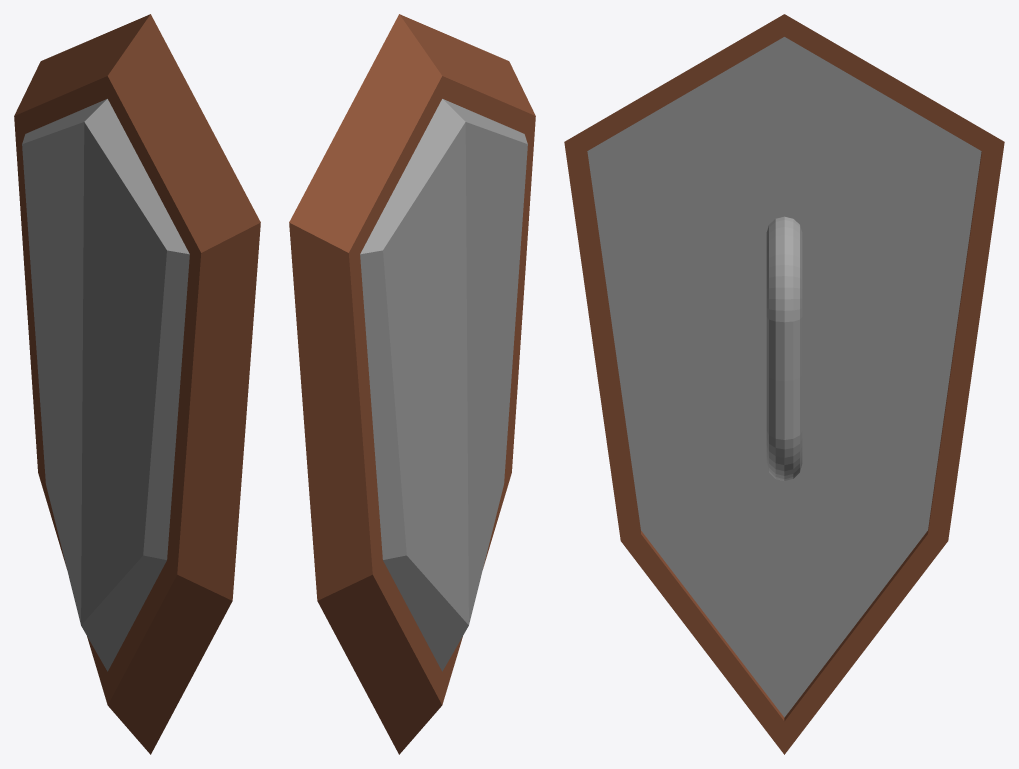
Rendered from shield.fbx.
The picture shows the model from 3 angles, left to right: view 1: azimuth 30°, elevation 25°; view 2: azimuth 150°, elevation 25°; view 3: azimuth 270°, elevation 25°; orthographic projection.
Visible parts, largest first — view 1: Cube; view 2: Cube; view 3: Cube, Torus.
Boxes of the visible parts, x1,y1,x2,y2 form: Cube: (14,14,260,754); Cube: (289,14,535,754); Cube: (564,14,1004,754); Torus: (766,216,802,481).
Size of the model in its own units: 19.22 by 101 by 54.16.
